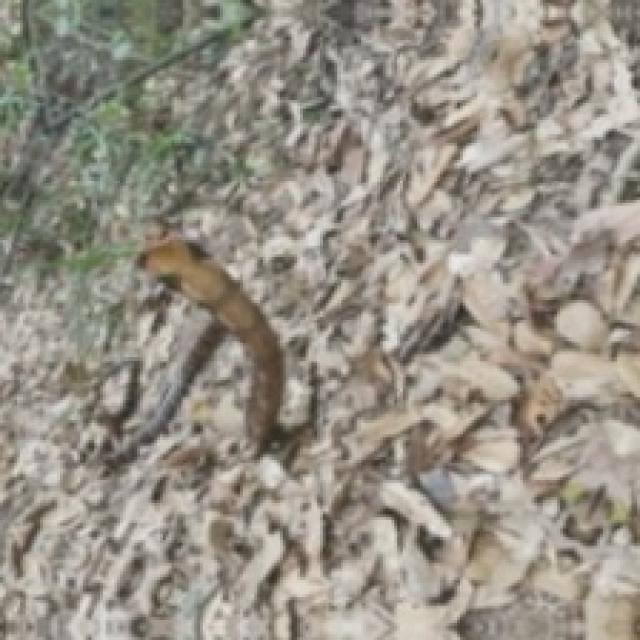king cobra: (137, 231, 283, 451)
